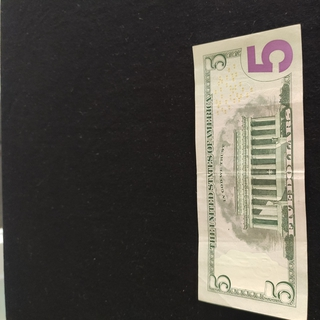5USDBack: (192, 23, 310, 319)
